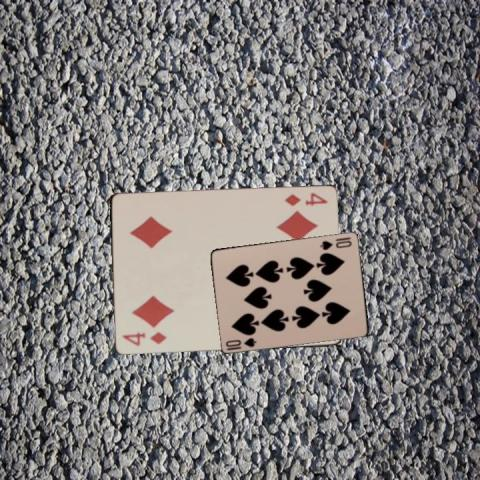10s: (318, 238, 353, 252), (223, 335, 258, 348)
4d: (119, 329, 167, 347), (281, 190, 329, 207)
